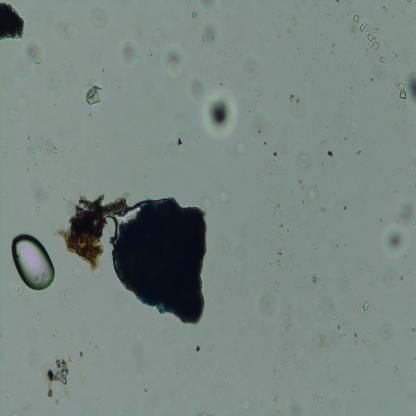Air bubble: (10, 234, 55, 289)
Background material: (57, 193, 122, 272), (270, 310, 300, 384), (266, 199, 298, 262), (203, 86, 241, 139), (23, 132, 61, 169), (45, 356, 75, 401), (381, 219, 412, 260), (214, 231, 252, 261), (0, 1, 27, 43), (25, 168, 57, 202), (8, 90, 33, 127), (122, 321, 144, 361), (162, 45, 189, 77), (117, 37, 143, 69), (82, 78, 106, 111), (262, 275, 280, 315), (310, 333, 332, 364), (198, 19, 221, 47), (291, 140, 312, 170), (24, 41, 44, 69), (268, 152, 289, 178), (316, 296, 334, 325), (0, 133, 18, 161), (398, 201, 416, 228), (240, 56, 259, 80), (57, 16, 79, 36), (384, 267, 404, 287), (330, 312, 345, 338), (189, 79, 205, 103), (57, 284, 73, 308), (215, 184, 232, 206), (286, 93, 301, 117), (182, 0, 198, 21), (374, 65, 396, 80), (197, 0, 219, 15), (151, 27, 167, 47), (14, 401, 35, 416), (72, 362, 86, 384), (92, 10, 107, 30), (378, 321, 393, 340), (306, 184, 320, 203), (47, 69, 60, 89), (306, 392, 325, 405), (272, 398, 285, 416), (409, 72, 416, 103), (408, 162, 416, 189), (309, 251, 321, 269), (389, 358, 401, 375), (296, 174, 307, 192), (356, 300, 369, 315), (361, 330, 373, 346), (298, 288, 310, 304), (222, 45, 238, 57), (62, 51, 73, 68), (369, 160, 384, 172), (171, 363, 181, 381), (290, 12, 301, 28), (327, 39, 339, 53), (348, 380, 357, 397), (366, 73, 376, 88), (349, 331, 359, 346), (220, 364, 230, 379), (314, 273, 326, 285), (254, 127, 266, 139), (166, 328, 177, 341), (239, 398, 250, 411), (332, 135, 346, 144), (196, 409, 214, 416), (317, 206, 329, 216), (305, 116, 315, 128), (47, 327, 58, 337), (381, 5, 391, 16), (175, 135, 183, 148), (344, 26, 357, 34), (16, 288, 26, 298), (311, 42, 320, 52), (370, 26, 379, 36), (346, 0, 354, 11), (323, 10, 332, 19), (94, 396, 104, 404), (253, 170, 261, 180), (78, 348, 85, 359), (327, 148, 334, 159), (396, 163, 402, 175), (341, 273, 349, 282), (54, 89, 62, 98), (194, 344, 202, 352), (260, 139, 268, 147), (348, 56, 353, 68), (36, 311, 42, 321), (296, 1, 304, 8), (355, 149, 363, 156), (223, 14, 228, 25), (35, 206, 41, 214), (286, 27, 292, 35), (342, 203, 347, 212), (6, 392, 12, 399), (144, 385, 150, 392), (122, 404, 127, 412), (393, 51, 398, 59), (303, 231, 308, 238), (391, 256, 395, 264), (412, 326, 416, 334), (406, 267, 411, 273), (312, 245, 318, 250), (335, 0, 340, 3), (406, 0, 412, 2), (96, 143, 100, 146), (384, 34, 386, 38)
Fragment: (109, 195, 208, 325)
